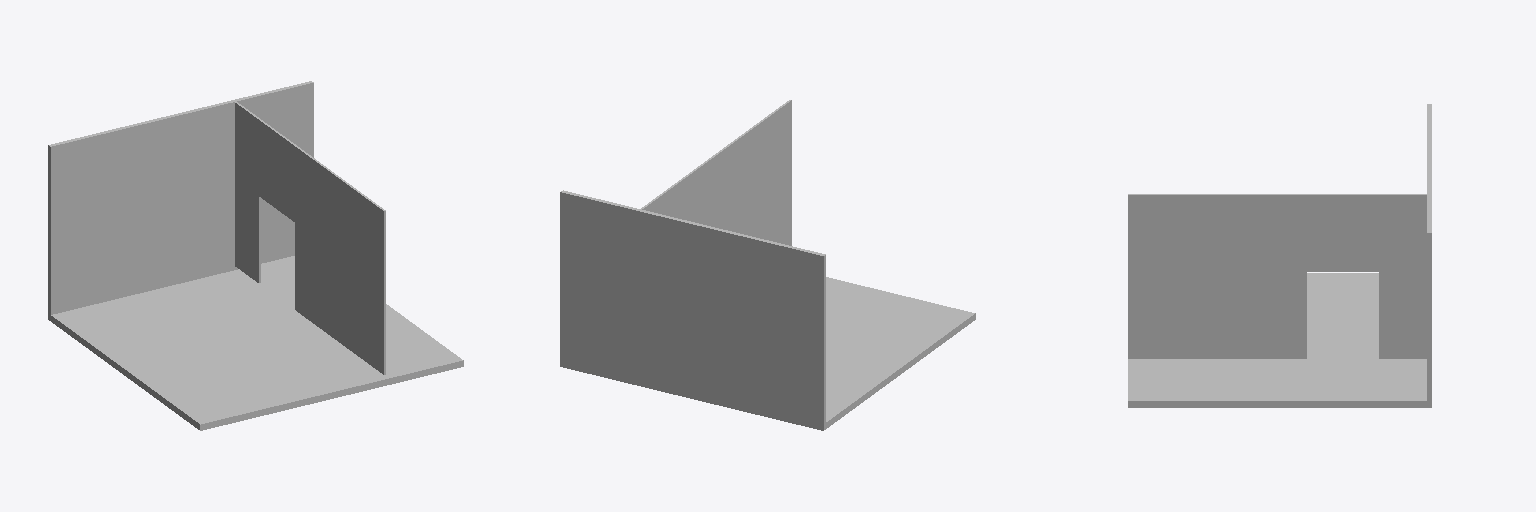
The model's file is 4x2 second (2)-4.obj.
3 views of the same model, side by side, from view 1: azimuth 30°, elevation 25°; view 2: azimuth 150°, elevation 25°; view 3: azimuth 270°, elevation 25° (orthographic).
Visible parts, largest first — view 1: 4x2 second (2)-4; view 2: 4x2 second (2)-4; view 3: 4x2 second (2)-4.
Part boxes in pixels (x1,y1,x2,y2): 4x2 second (2)-4: (48,81,463,430); 4x2 second (2)-4: (560,100,975,430); 4x2 second (2)-4: (1128,104,1431,407).
Bounding box in the file's own units: 126 × 80 × 126.